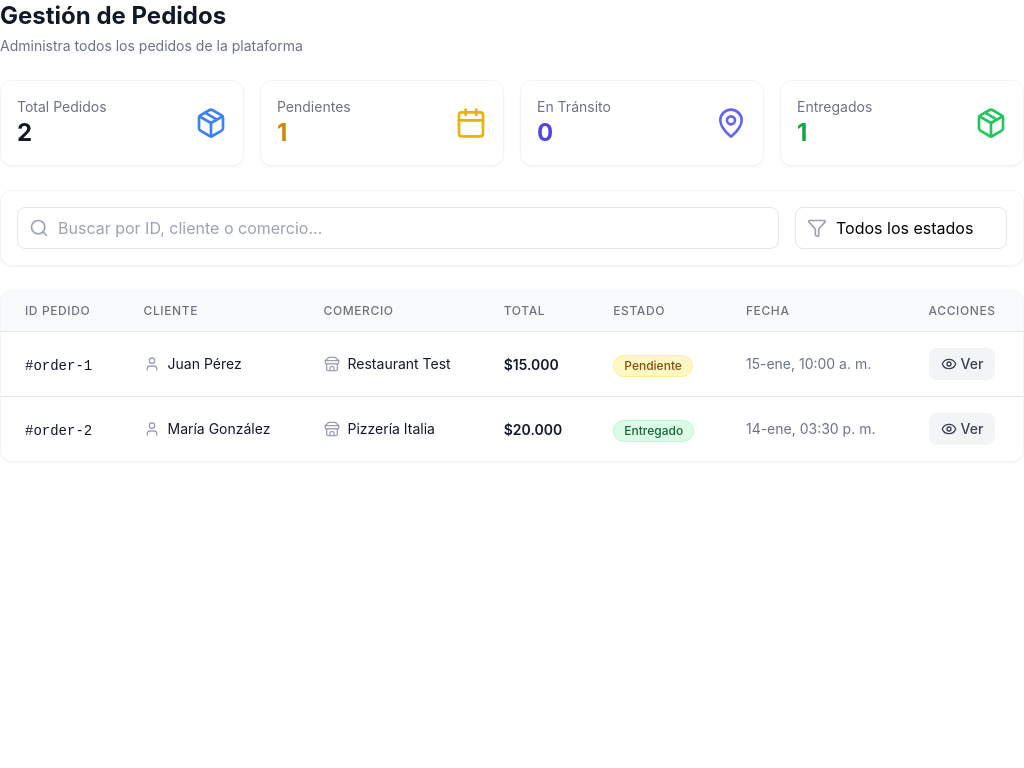
Test case: Orders Component › Modal de detalle › debe abrir modal al hacer clic en Ver
The image size is (1024, 768).
Expected: the text "Restaurant Test" is shown, [348,354,451,374]
Click the button "Ver" in the row of "order-1": (962, 364) [929,348,995,380]
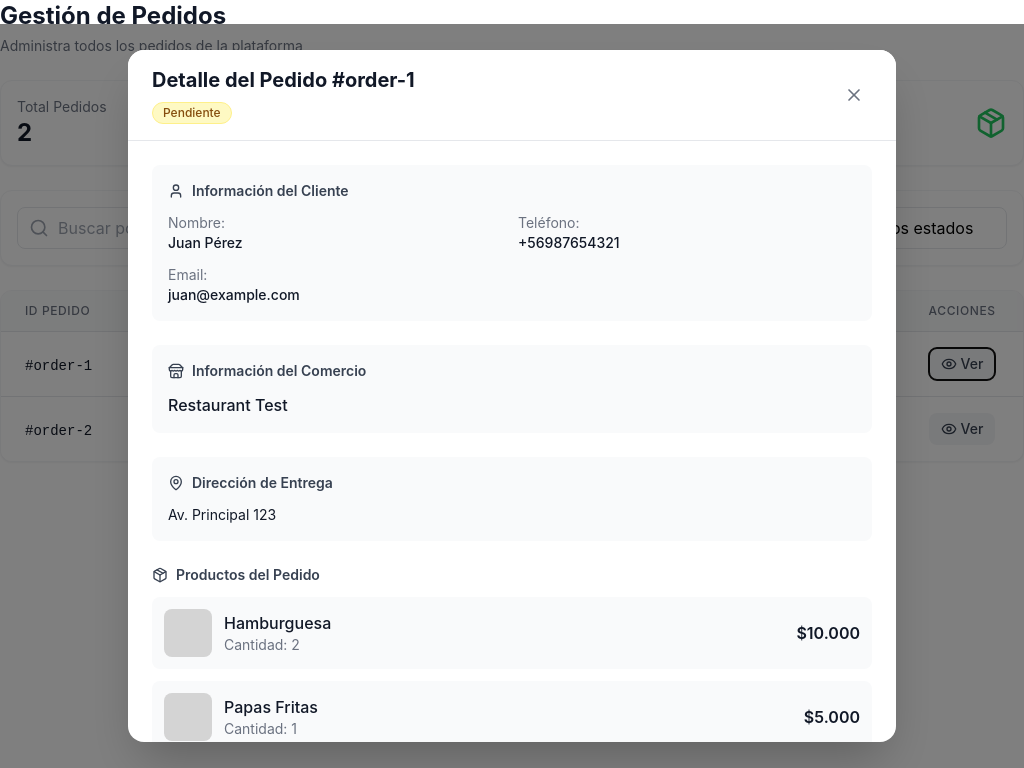
Expected: the text "Juan Pérez" in the row of "$15.000" is shown, [168,355,242,372]
Expected: the heading "Detalle del Pedido #order-1" is shown, [152,66,415,94]
Expected: the text "Hamburguesa" is shown, [224,611,331,635]
